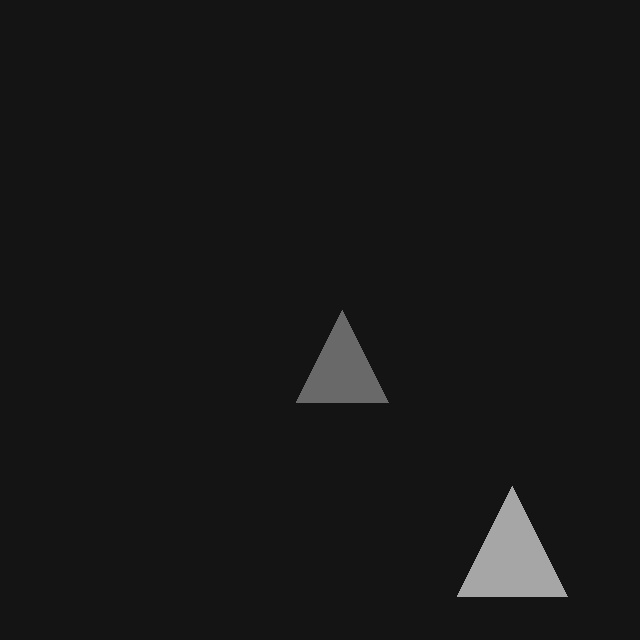triangle: (457, 486, 567, 596), (296, 310, 388, 402)
